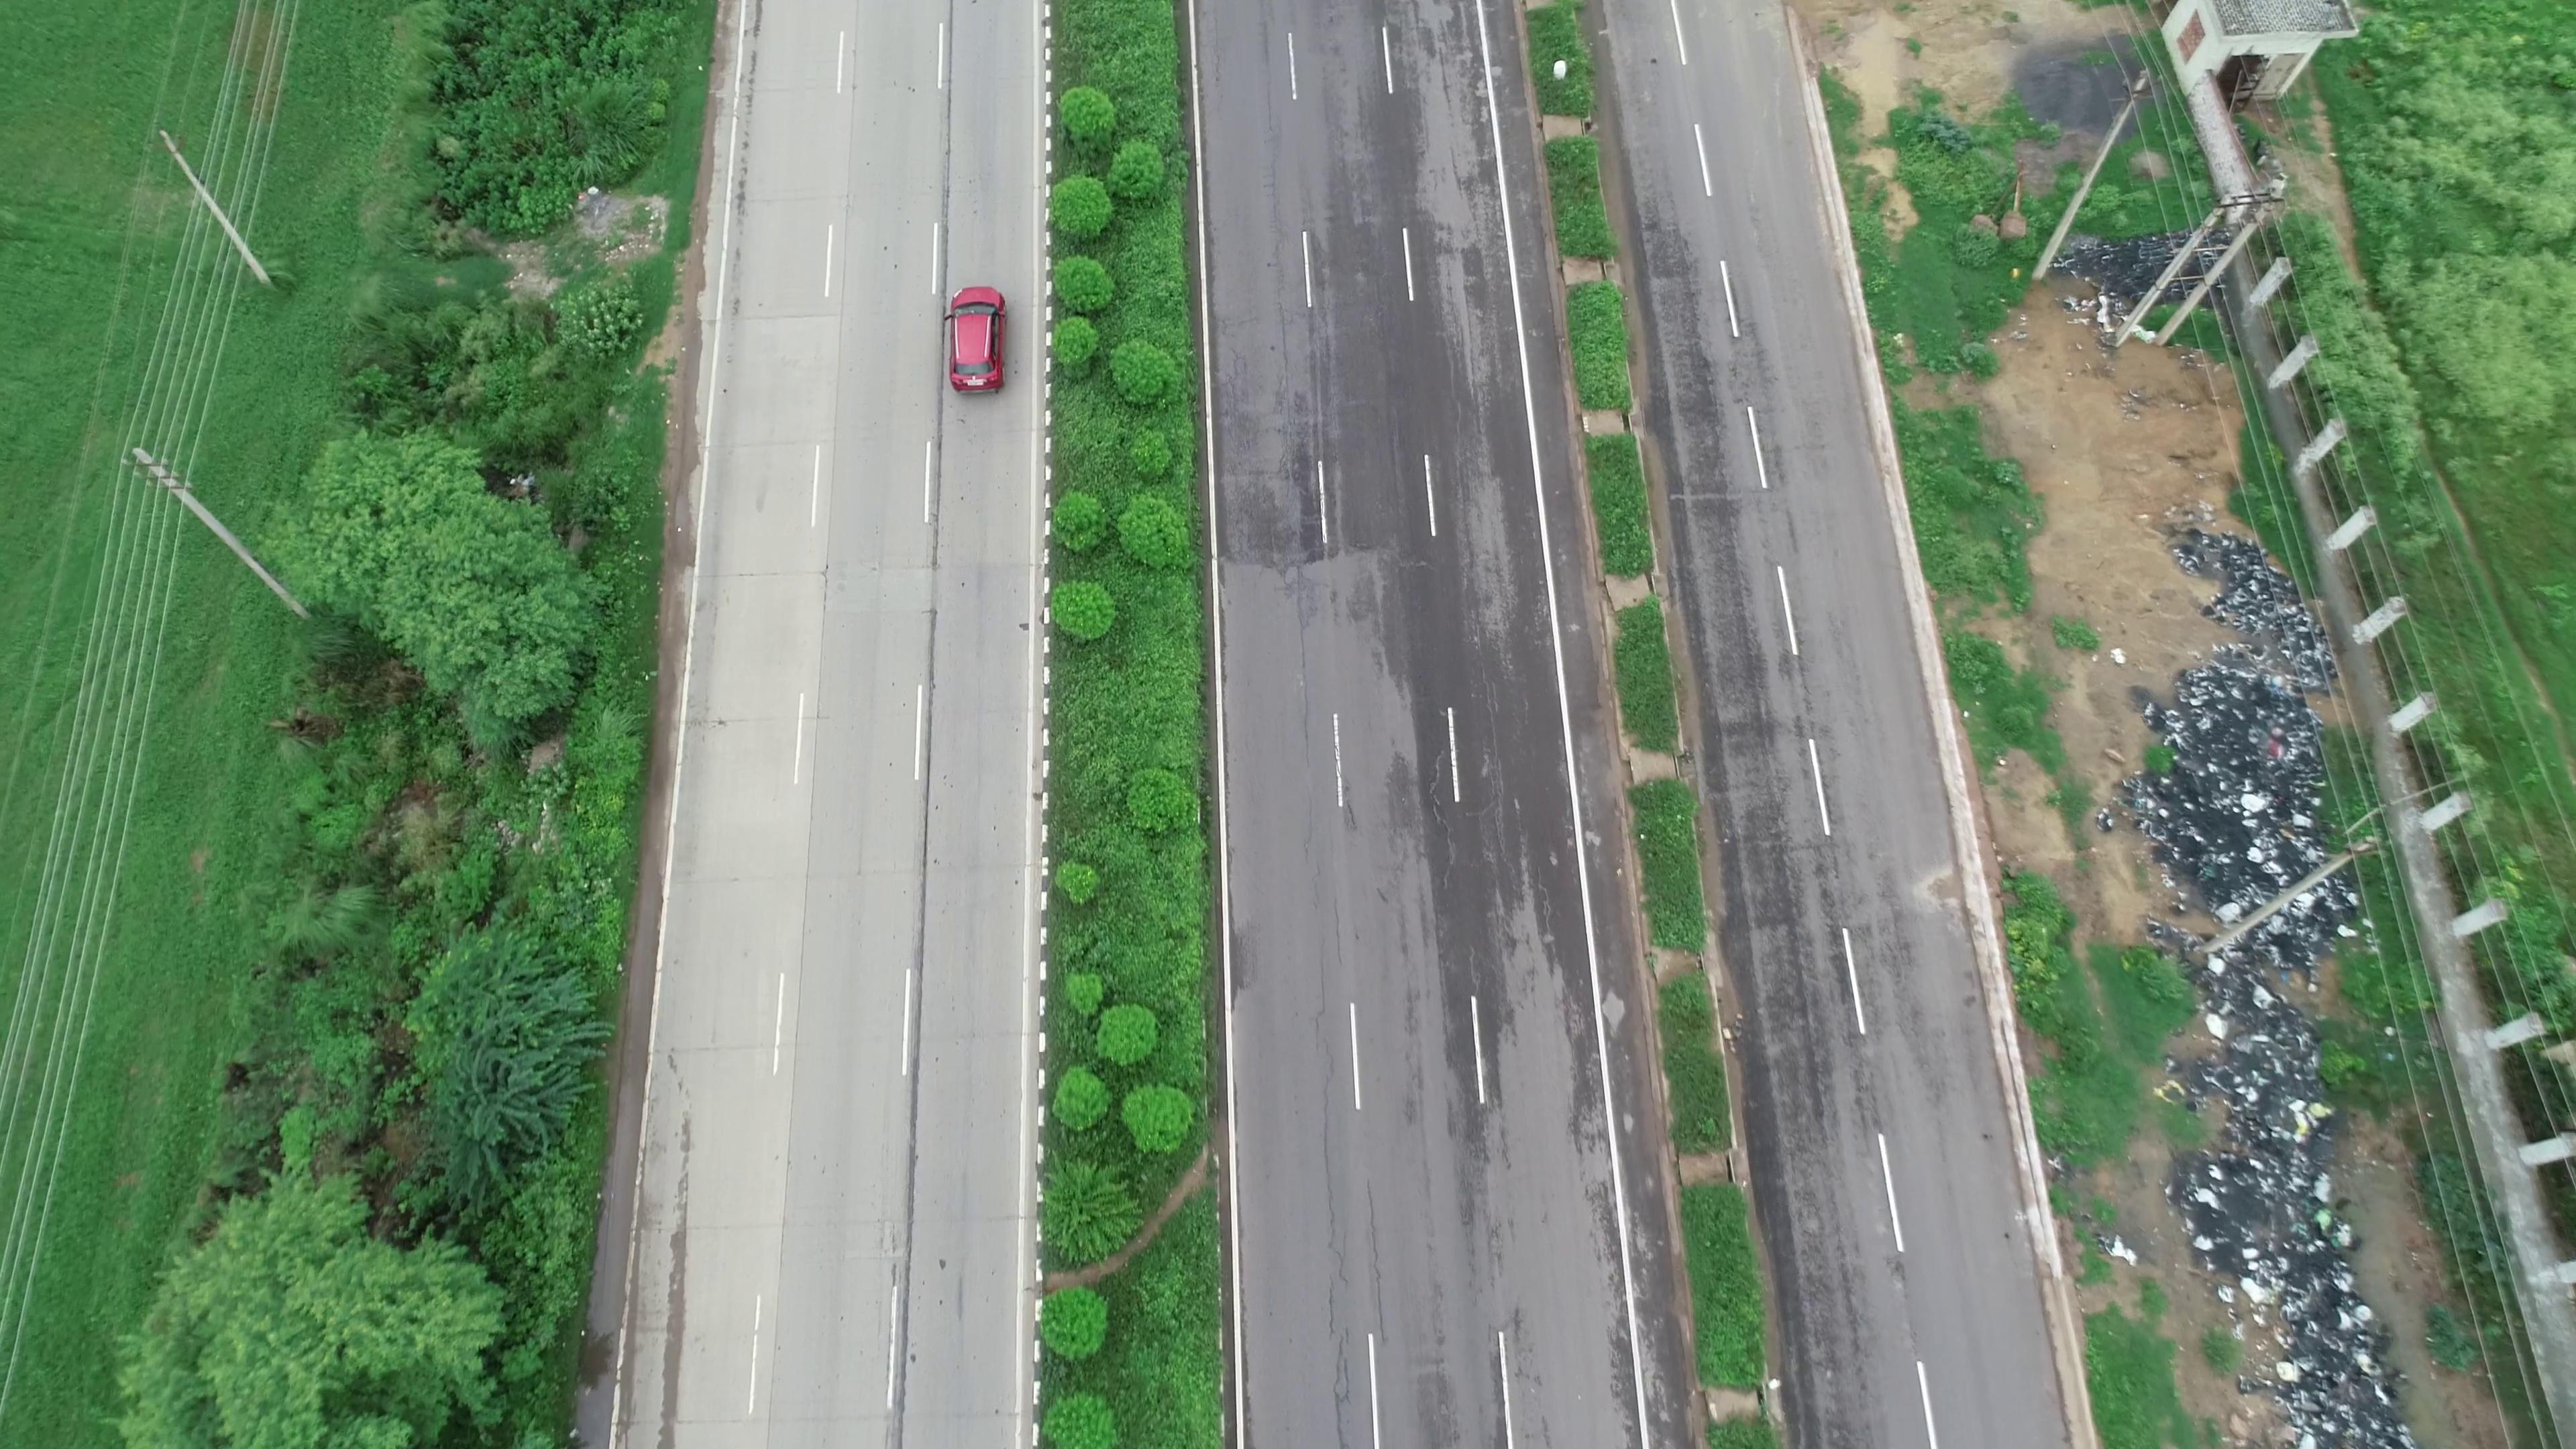Longitudinal_cracks: (1300, 934, 1346, 1430), (1276, 575, 1330, 849)
Road_side_garbage: (2128, 679, 2365, 1274)
